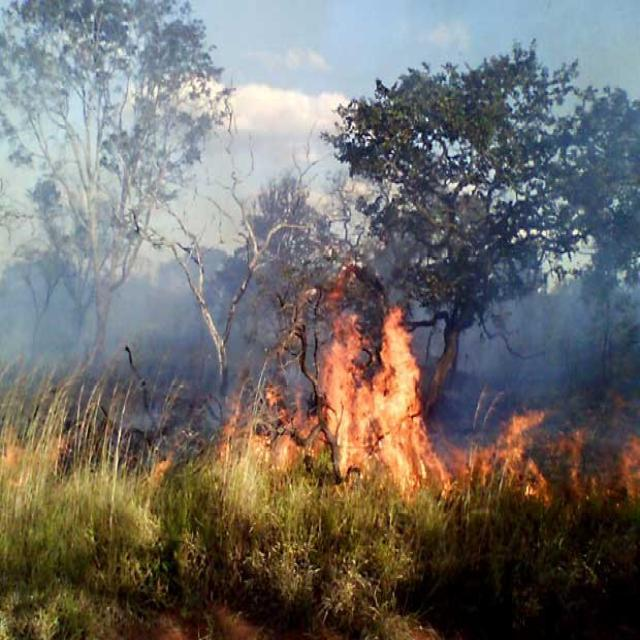Fire: (321, 298, 444, 502), (473, 402, 638, 519), (220, 379, 320, 489)
Smoke: (18, 244, 224, 368), (494, 264, 636, 384)
